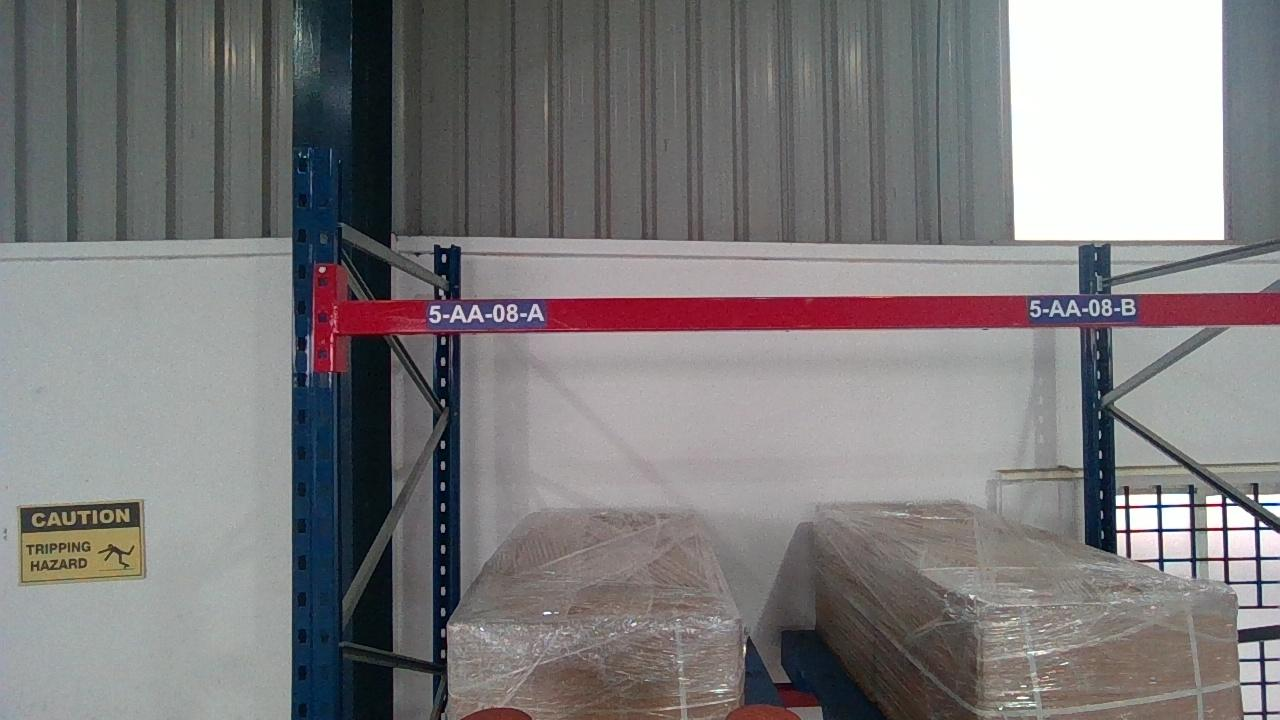h_rack: (333, 301, 1277, 324)
